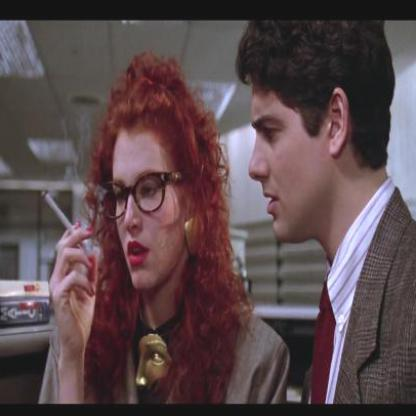cigarette: (43, 188, 75, 237)
person: (236, 20, 415, 415), (58, 61, 232, 407)
